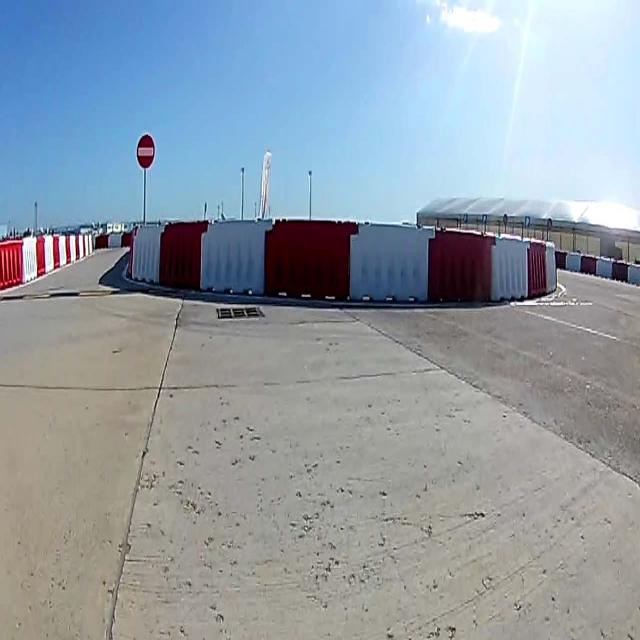girisyok: (136, 134, 154, 169)
